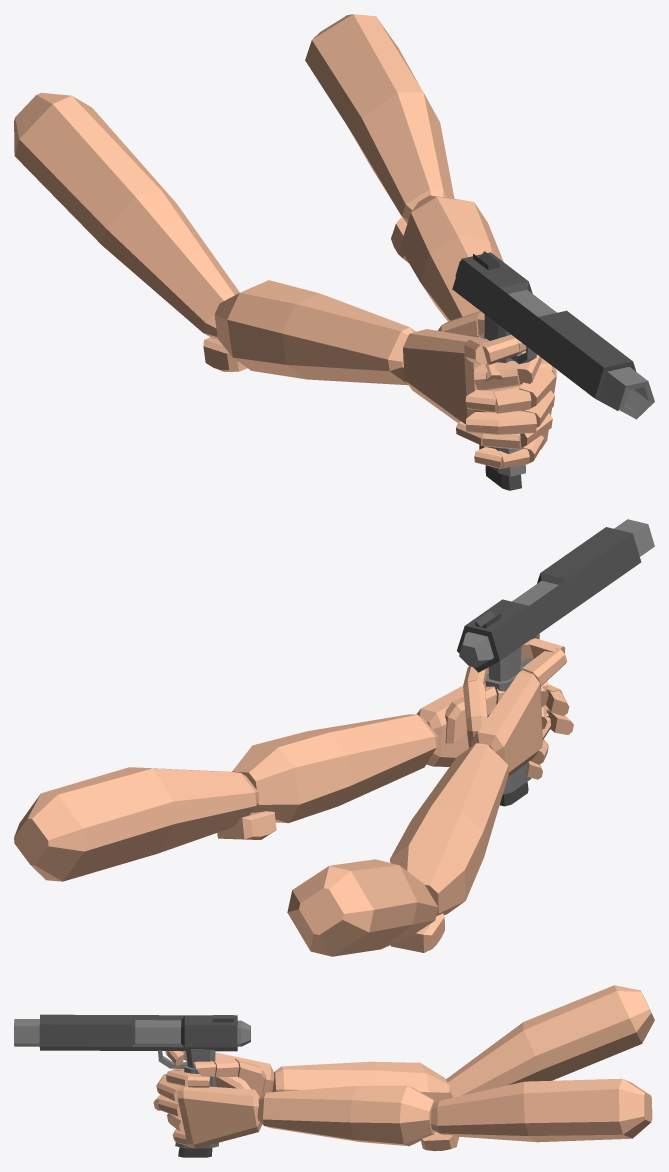
The model's file is Pistol_Hand.fbx.
3 views of the same model, one above another, from view 1: azimuth 30°, elevation 25°; view 2: azimuth 150°, elevation 25°; view 3: azimuth 270°, elevation 25° (orthographic). The views are drawn at different scales.
Parts seen in each view (by area): view 1: Cube, Cube.019, Cube.001, Cylinder, Cube.020, Cube.021, Cube.040, Cube.008, Cube.002, Cube.030, Cube.027, Cube.011 (+2 smaller); view 2: Cube.019, Cube.020, Cube.001, Cube, Cylinder, Cube.021, Cube.040, Cube.039, Cube.022, Cube.004, Cube.023, Cube.002 (+1 smaller); view 3: Cube.019, Cube, Cube.020, Cylinder, Cube.001, Cube.039, Cube.040, Cube.004, Cube.021, Cube.022, Cube.005, Cube.023 (+6 smaller).
Boxes of the visible parts, left/top/right/bottom form: Cube: left=14, top=92, right=239, bottom=339; Cube.019: left=305, top=14, right=454, bottom=223; Cube.001: left=214, top=280, right=415, bottom=385; Cylinder: left=452, top=251, right=636, bottom=410; Cube.020: left=400, top=195, right=503, bottom=337; Cube.021: left=403, top=329, right=482, bottom=424; Cube.040: left=455, top=261, right=654, bottom=476; Cube.008: left=473, top=361, right=520, bottom=390; Cube.002: left=203, top=337, right=247, bottom=371; Cube.030: left=497, top=411, right=536, bottom=434; Cube.027: left=493, top=387, right=531, bottom=413; Cube.011: left=481, top=335, right=519, bottom=364; Cube.019: left=14, top=767, right=258, bottom=881; Cube.020: left=232, top=714, right=439, bottom=823; Cube.001: left=390, top=743, right=508, bottom=916; Cube: left=287, top=859, right=438, bottom=956; Cylinder: left=457, top=527, right=641, bottom=672; Cube.021: left=471, top=670, right=542, bottom=776; Cube.040: left=459, top=519, right=654, bottom=794; Cube.039: left=416, top=685, right=468, bottom=766; Cube.022: left=217, top=811, right=276, bottom=839; Cube.004: left=463, top=680, right=487, bottom=747; Cube.023: left=445, top=686, right=496, bottom=743; Cube.002: left=390, top=913, right=444, bottom=952; Cube.019: left=431, top=1078, right=652, bottom=1142; Cube: left=446, top=985, right=654, bottom=1098; Cube.020: left=257, top=1085, right=436, bottom=1146; Cylinder: left=39, top=1014, right=237, bottom=1051; Cube.001: left=272, top=1061, right=449, bottom=1102; Cube.039: left=177, top=1086, right=262, bottom=1148; Cube.040: left=14, top=1019, right=250, bottom=1148; Cube.004: left=235, top=1059, right=265, bottom=1093; Cube.021: left=215, top=1052, right=274, bottom=1096; Cube.022: left=421, top=1131, right=458, bottom=1151; Cube.005: left=213, top=1059, right=239, bottom=1077; Cube.023: left=215, top=1076, right=250, bottom=1089.
Size of the model in its own units: 41.83 by 21.83 by 90.99.
